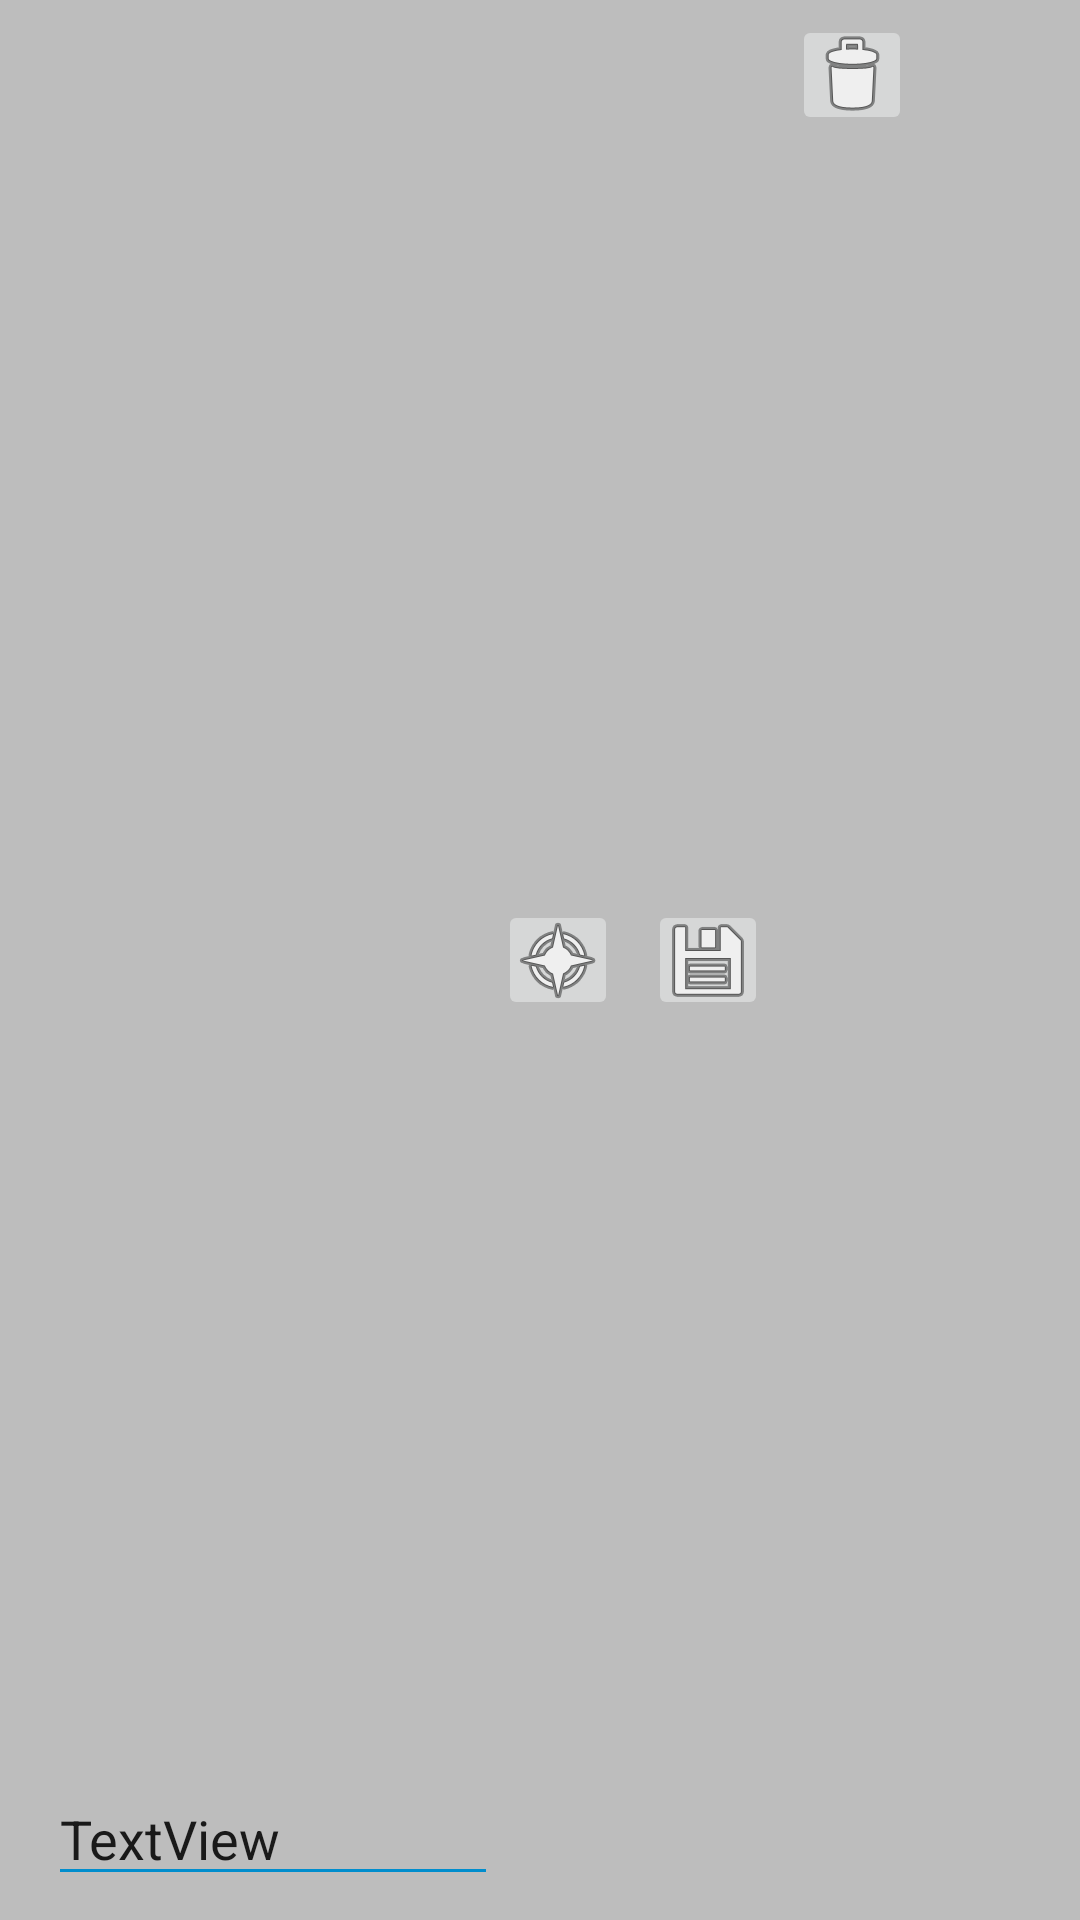

Named icons in this screenshot (1080*1920) and their centers, (x=x, y=y):
compass: (x=558, y=960)
delete: (x=852, y=75)
save: (x=708, y=960)
